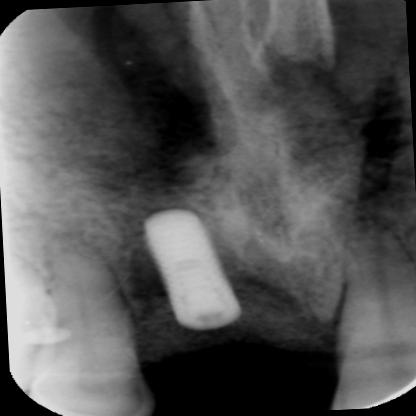ITI: (134, 206, 247, 333)
